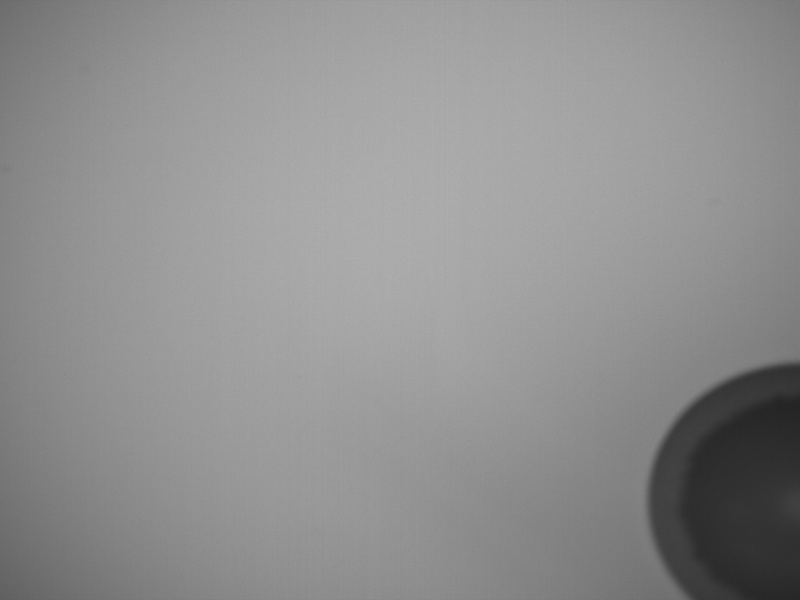bead: (647, 364, 799, 600)
